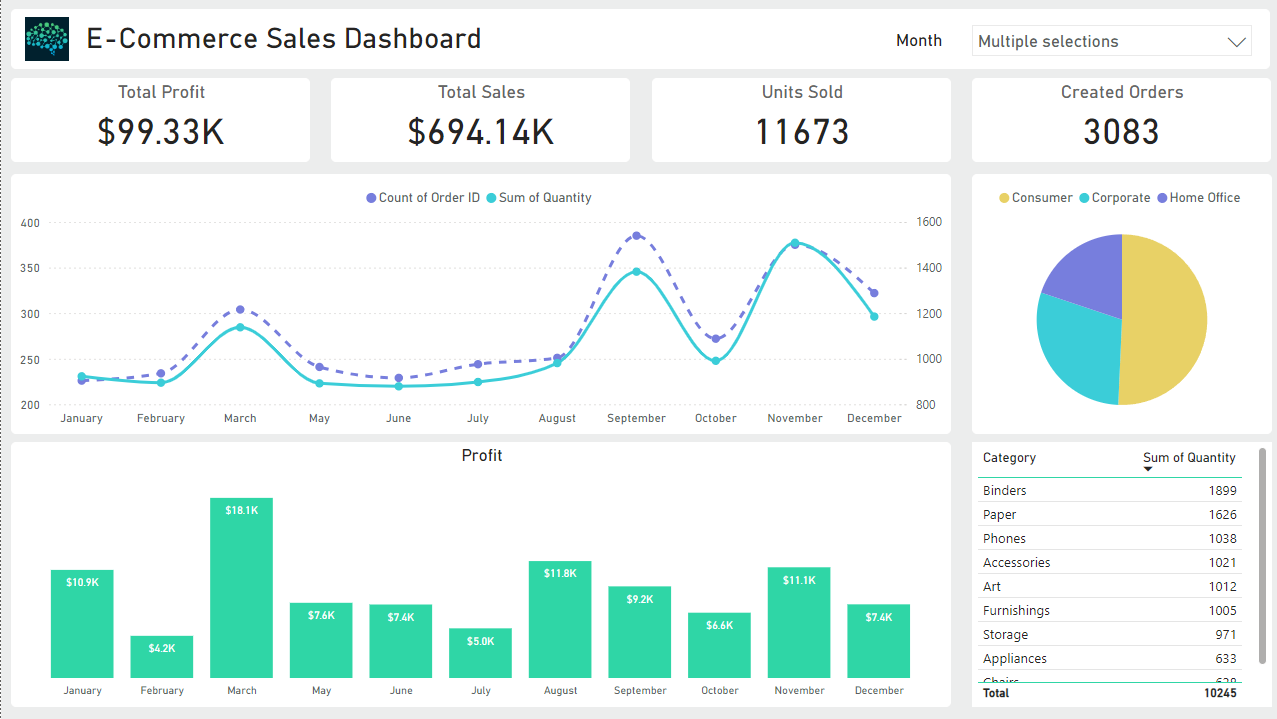

This screenshot's page, from the dashboard's own definition file:
{"tool":"powerbi","page":{"name":"Page 1","canvas":[1280,720],"ordinal":0},"visuals":[{"type":"textbox","box":[0,0,1280,719.8],"z":0},{"type":"textbox","box":[9.7,9.7,1259.6,60.3],"z":1000},{"type":"image","box":[17.5,12.6,55.4,54.5],"z":2000},{"type":"textbox","box":[80,17,417,45],"z":3000},{"type":"slicer","fields":{"Values":["Database.Month"]},"box":[961.2,16,299.7,45.2],"z":4000},{"type":"textbox","box":[890,26,71,35],"z":5000},{"type":"card","title":"Units Sold","fields":{"Values":["Sum(Database.Quantity)"]},"box":[651,79,299,84],"z":6000},{"type":"card","title":"Total Sales","fields":{"Values":["Sum(Database.Sales)"]},"box":[330,79,299,84],"z":7000},{"type":"card","title":"Total Profit","fields":{"Values":["Sum(Database.Profit)"]},"box":[10,79,299,84],"z":8000},{"type":"card","title":"Created Orders","fields":{"Values":["CountNonNull(Database.Order ID)"]},"box":[971,79,299,84],"z":9000},{"type":"lineChart","fields":{"Category":["Database.Order Date.Variation.Date Hierarchy.Month"],"Y":["CountNonNull(Database.Order ID)"],"Y2":["Sum(Database.Quantity)"]},"box":[10,175,940,260],"z":10000},{"type":"clusteredColumnChart","title":"Profit","fields":{"Category":["Database.Order Date.Variation.Date Hierarchy.Month"],"Y":["Sum(Database.Profit)"]},"box":[10,443,940,265],"z":10001},{"type":"pieChart","fields":{"Category":["Database.Segment"],"Y":["CountNonNull(Database.Order ID)"]},"box":[971,175,300,260],"z":10002},{"type":"tableEx","fields":{"Values":["Database.Category","Sum(Database.Quantity)"]},"box":[971,443,300,265],"z":10003}]}

Visuals, with their boxes in screenshot pixels (x1, y1, x2, y2), scaled from the page's 1280x720 canvas onto the 1277x719 screenshot:
textbox: l=0, t=0, r=1276, b=718
textbox: l=10, t=10, r=1266, b=70
image: l=17, t=13, r=73, b=67
textbox: l=80, t=17, r=496, b=62
slicer - Database.Month: l=959, t=16, r=1258, b=61
textbox: l=888, t=26, r=959, b=61
"Units Sold" card: l=649, t=79, r=948, b=163
"Total Sales" card: l=329, t=79, r=628, b=163
"Total Profit" card: l=10, t=79, r=308, b=163
"Created Orders" card: l=969, t=79, r=1267, b=163
lineChart - Database.Order Date.Variation.Date Hierarchy.Month x CountNonNull(Database.Order ID): l=10, t=175, r=948, b=434
"Profit" clusteredColumnChart: l=10, t=442, r=948, b=707
pieChart - Database.Segment x CountNonNull(Database.Order ID): l=969, t=175, r=1268, b=434
tableEx - Database.Category x Sum(Database.Quantity): l=969, t=442, r=1268, b=707
